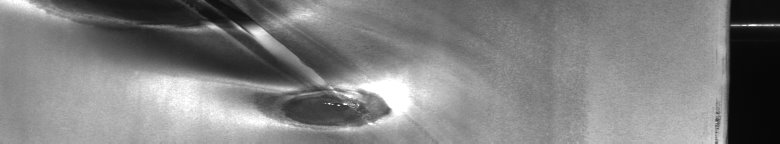ke: (76, 4, 391, 131)
